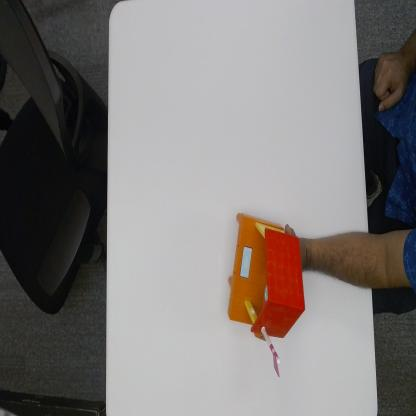Arm: (308, 229, 370, 288)
Hand: (284, 223, 307, 295)
House: (229, 210, 305, 369)
